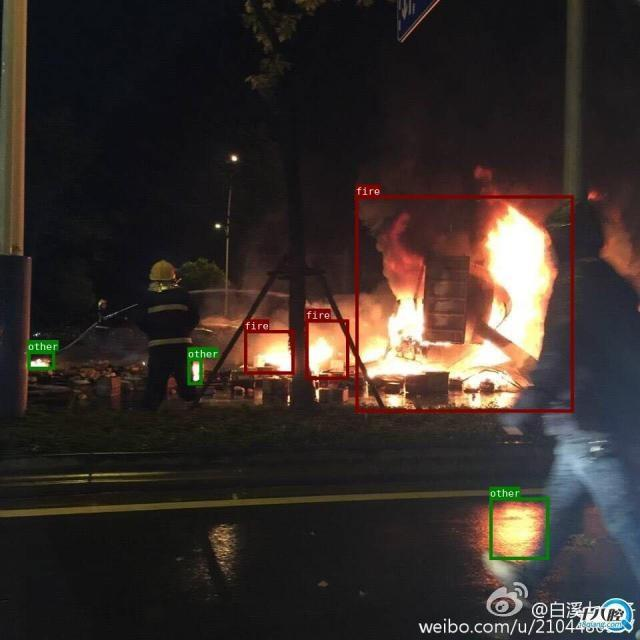fire: (355, 195, 573, 412), (305, 319, 349, 379), (244, 330, 294, 374)
